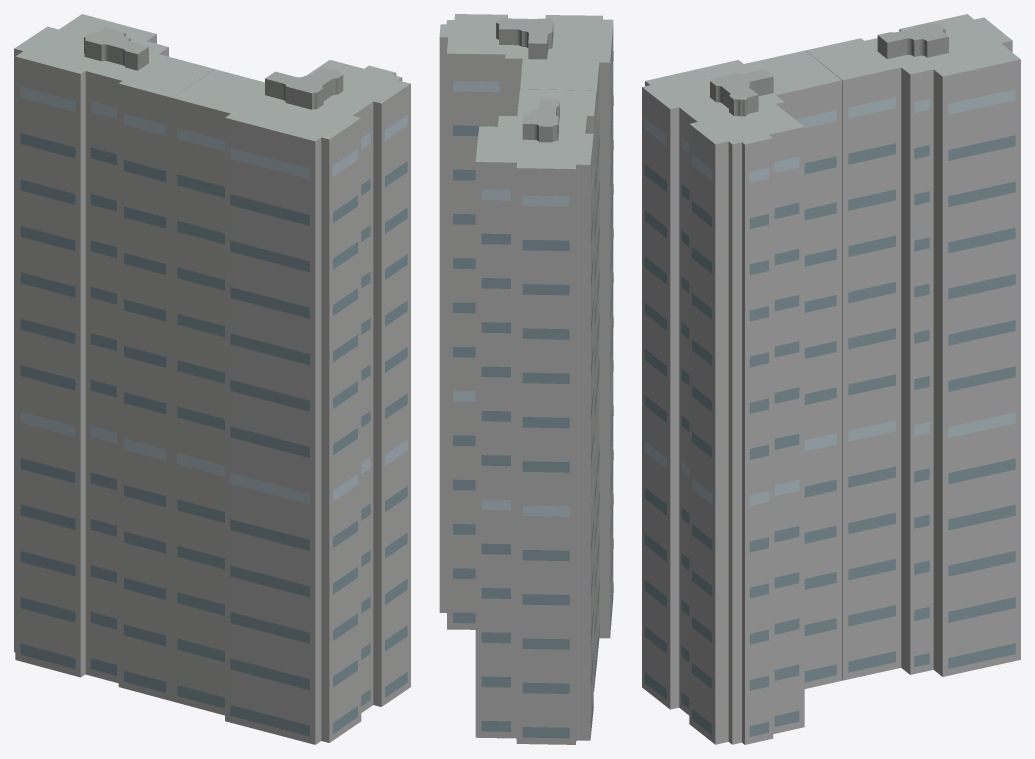
File: fallback-acro-riverpark-101.glb
3 renders of one model, left to right at view 1: azimuth 30°, elevation 25°; view 2: azimuth 150°, elevation 25°; view 3: azimuth 270°, elevation 25°, orthographic. The views are drawn at different scales.
Parts seen in each view (by area): view 1: fallback-acro-riverpark-101; view 2: fallback-acro-riverpark-101; view 3: fallback-acro-riverpark-101.
Part boxes in pixels (left/top/right/bottom): fallback-acro-riverpark-101: left=14, top=14, right=410, bottom=744; fallback-acro-riverpark-101: left=439, top=14, right=613, bottom=744; fallback-acro-riverpark-101: left=642, top=14, right=1020, bottom=744.
Size of the model in its own units: 40.87 by 90 by 50.12.
